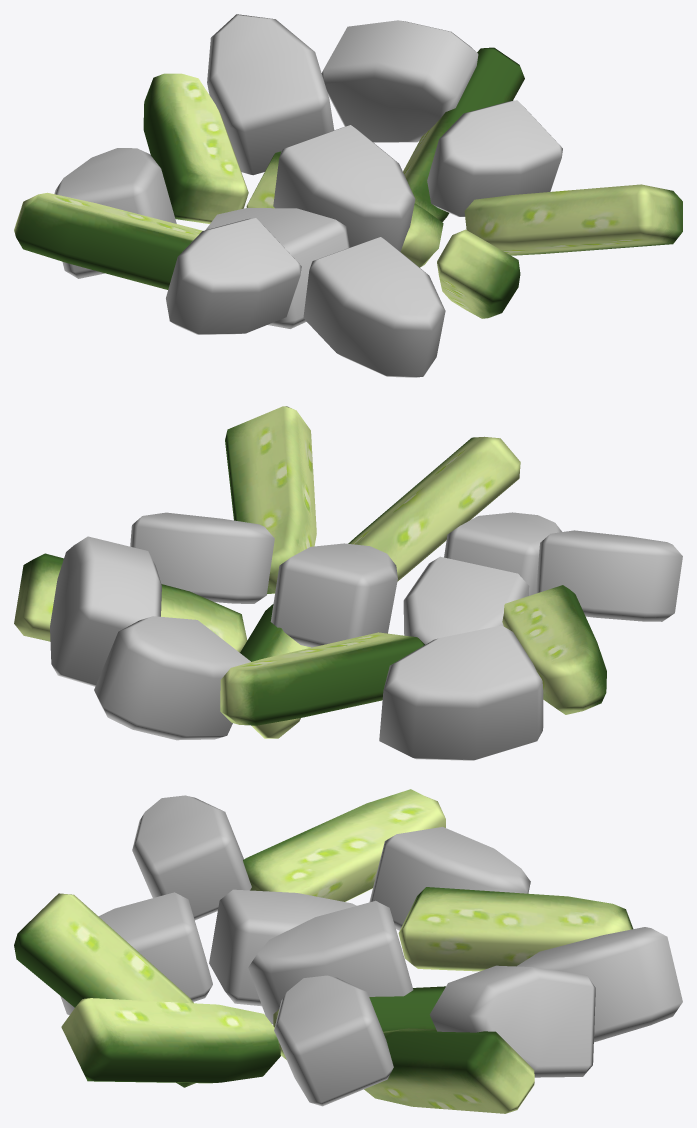
Rendered from Fish_Cucumber.fbx.
3 views of the same model, one above another, from view 1: azimuth 30°, elevation 25°; view 2: azimuth 150°, elevation 25°; view 3: azimuth 270°, elevation 25° (orthographic). The views are drawn at different scales.
Visible parts, largest first — view 1: m_plated_fish_cucumber_01; view 2: m_plated_fish_cucumber_01; view 3: m_plated_fish_cucumber_01.
Boxes of the visible parts, left/top/right/bottom form: m_plated_fish_cucumber_01: left=14, top=14, right=682, bottom=377; m_plated_fish_cucumber_01: left=14, top=406, right=682, bottom=760; m_plated_fish_cucumber_01: left=14, top=789, right=682, bottom=1113.
Size of the model in its own units: 88.81 by 24.94 by 92.67.
